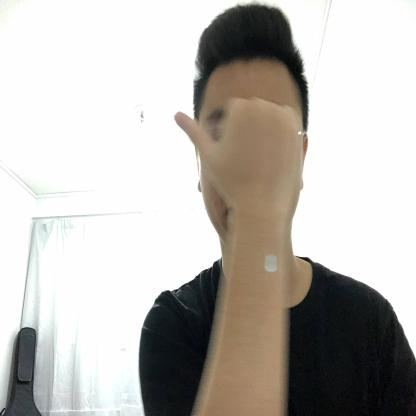right: (172, 96, 303, 207)
